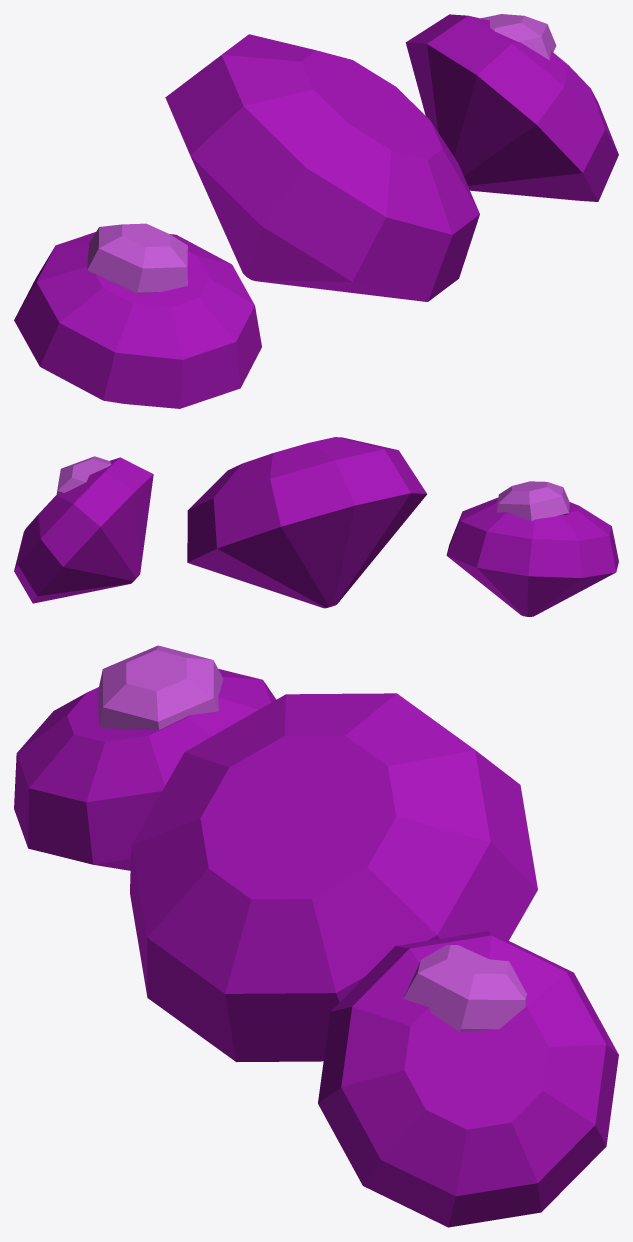
The picture shows the model from 3 angles, top to bottom: view 1: azimuth 30°, elevation 25°; view 2: azimuth 150°, elevation 25°; view 3: azimuth 270°, elevation 25°; orthographic projection. The views are drawn at different scales.
Parts seen in each view (by area): view 1: TI030 / individually faceted stone 1, TI030 / individually faceted stone 0, TI030 / individually faceted stone 2, TI030 / inclusion colour facet, TI030 / inclusion colour facet.002; view 2: TI030 / individually faceted stone 1, TI030 / individually faceted stone 2, TI030 / individually faceted stone 0, TI030 / inclusion colour facet, TI030 / inclusion colour facet.002; view 3: TI030 / individually faceted stone 1, TI030 / individually faceted stone 2, TI030 / individually faceted stone 0, TI030 / inclusion colour facet, TI030 / inclusion colour facet.002.
Part boxes in pixels (x1,y1,x2,y2): TI030 / individually faceted stone 1: (165, 34, 479, 301); TI030 / individually faceted stone 0: (14, 232, 261, 408); TI030 / individually faceted stone 2: (405, 14, 618, 201); TI030 / inclusion colour facet: (87, 223, 187, 293); TI030 / inclusion colour facet.002: (481, 14, 556, 60); TI030 / individually faceted stone 1: (187, 437, 426, 608); TI030 / individually faceted stone 2: (14, 457, 153, 603); TI030 / individually faceted stone 0: (446, 497, 618, 616); TI030 / inclusion colour facet: (497, 481, 569, 521); TI030 / inclusion colour facet.002: (56, 456, 111, 494); TI030 / individually faceted stone 1: (130, 693, 537, 1062); TI030 / individually faceted stone 2: (318, 931, 618, 1227); TI030 / individually faceted stone 0: (14, 668, 276, 870); TI030 / inclusion colour facet: (98, 645, 223, 730); TI030 / inclusion colour facet.002: (403, 945, 526, 1032).
Size of the model in its own units: 2.54 by 0.8889 by 1.57.
